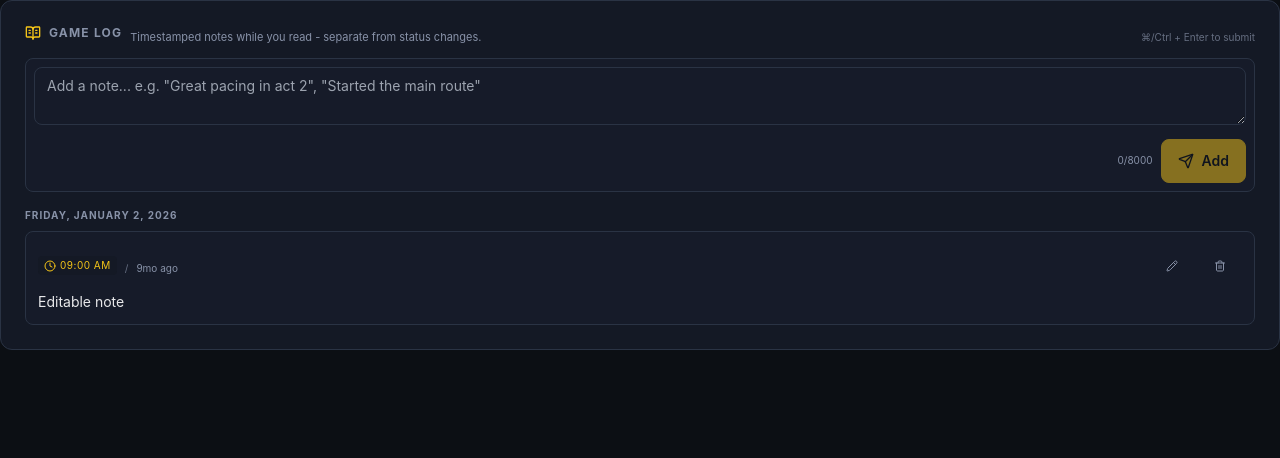
Test: GameLog branches › opens an entry for editing then cancels back to read mode
The width and height of the screenshot is (1280, 458).
Step 1. Click the button named "Edit" → coordinates (1172, 266), box left=1150, top=244, right=1194, bottom=288
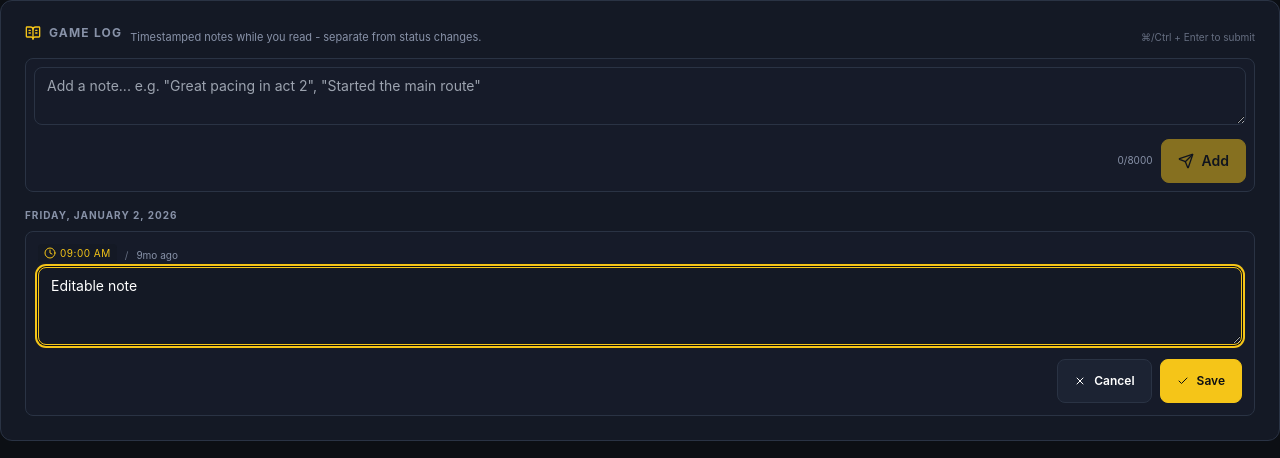
Expected: the text box showing "Editable note" is shown, left=38, top=267, right=1242, bottom=345
Step 2. Click the button "Cancel" → coordinates (1104, 381), box left=1057, top=359, right=1152, bottom=403
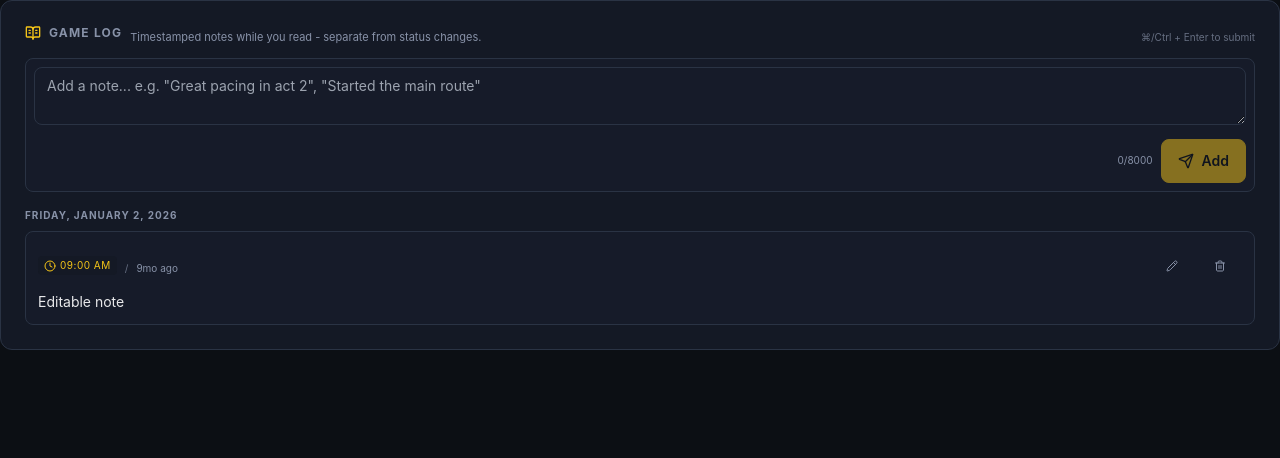
Expected: the text "Editable note" is shown, left=38, top=292, right=124, bottom=310
